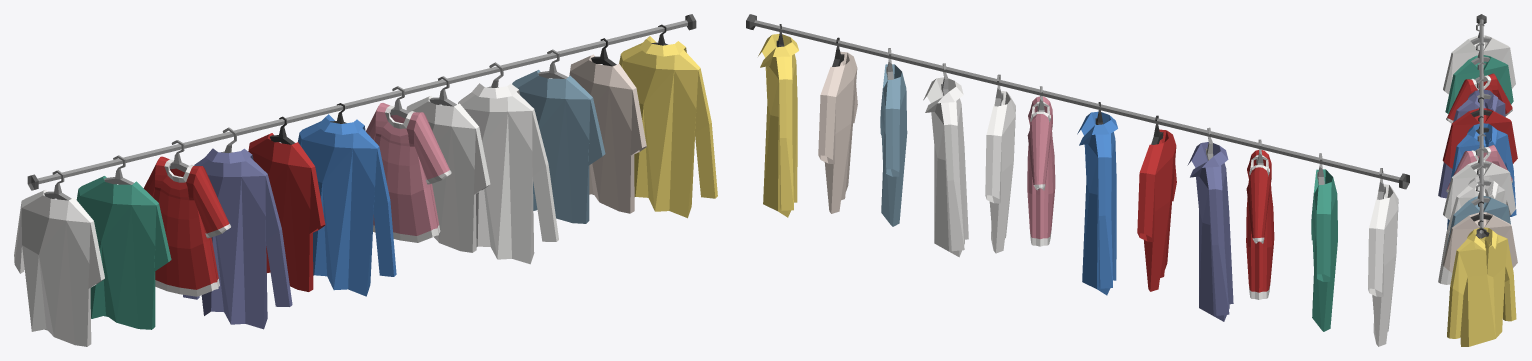
The model's file is Hanger_with_clothes.fbx.
3 views of the same model, side by side, from view 1: azimuth 30°, elevation 25°; view 2: azimuth 150°, elevation 25°; view 3: azimuth 270°, elevation 25° (orthographic). The views are drawn at different scales.
Parts seen in each view (by area): view 1: Hanger_with_clothes; view 2: Hanger_with_clothes; view 3: Hanger_with_clothes.
Boxes of the visible parts, x1=… form: Hanger_with_clothes: x1=14, y1=14, x2=717, y2=346; Hanger_with_clothes: x1=746, y1=14, x2=1409, y2=346; Hanger_with_clothes: x1=1438, y1=14, x2=1517, y2=346.
Bounding box in the file's own units: 442 × 69.31 × 120.
